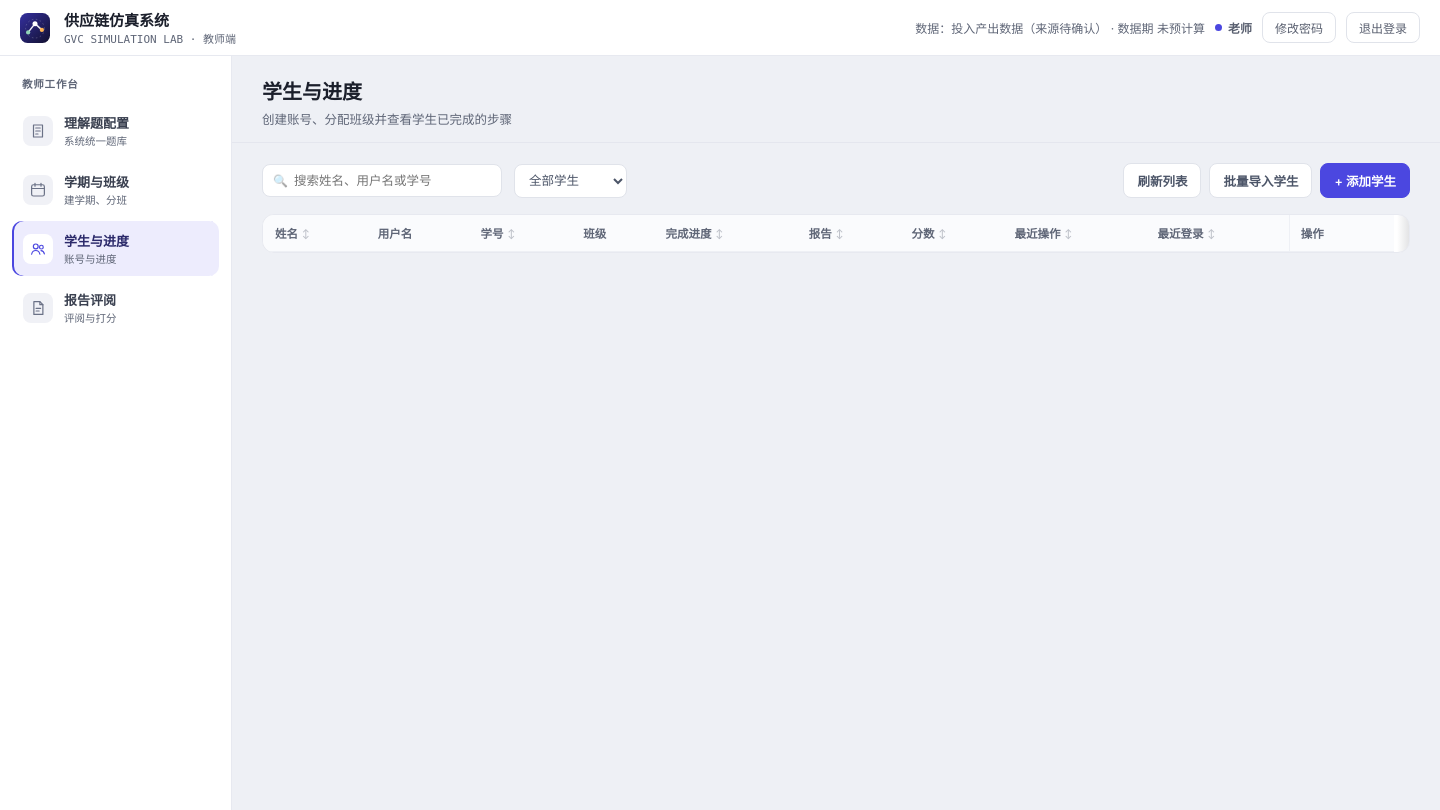
teacher review flow › the 待评阅 count follows the term filter; the sidebar badge stays the global count and says so
Click the button "报告评阅 评阅与打分" at (116, 308), box [12,280,219,335]
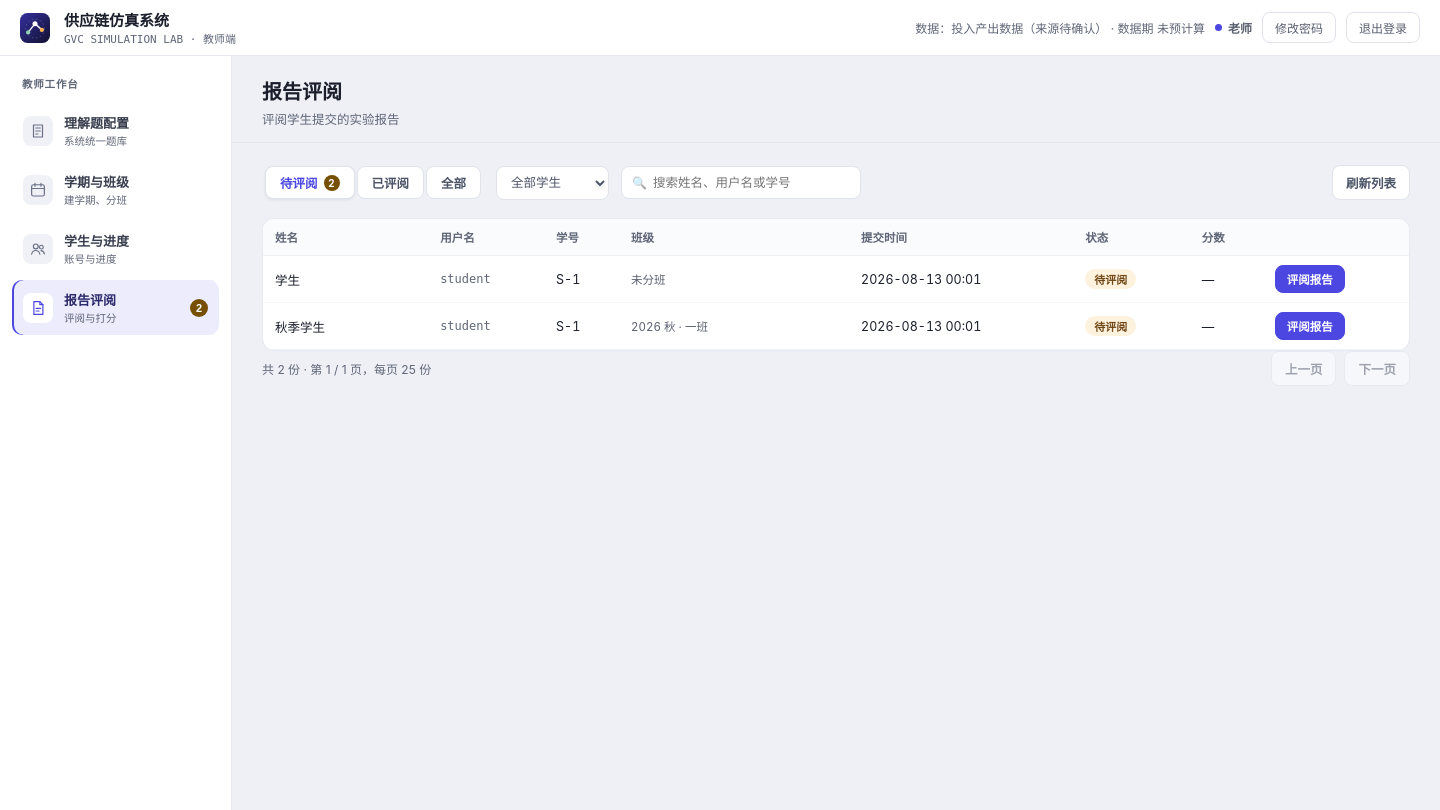
Now the button with aria-label "评阅报告：秋季学生" is shown, box [1275,312,1345,340]
Now the text with class "nav-badge" reads "2", box [196,302,202,314]
Select "2026 秋" in the dropdown named "筛选学期" at (552, 182), box [496,166,609,200]
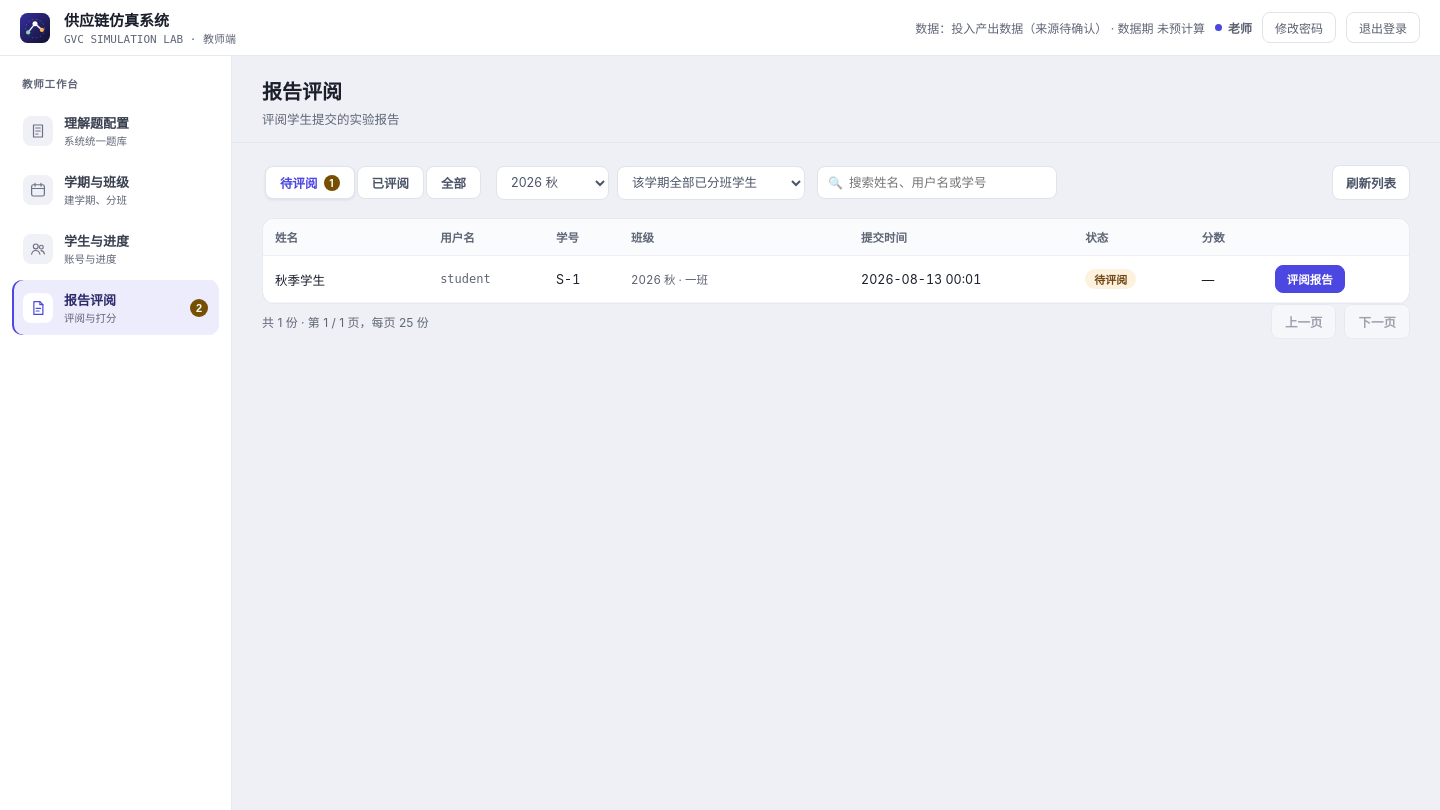
Select "2027 春" in the dropdown named "筛选学期" at (552, 182), box [496,166,609,200]
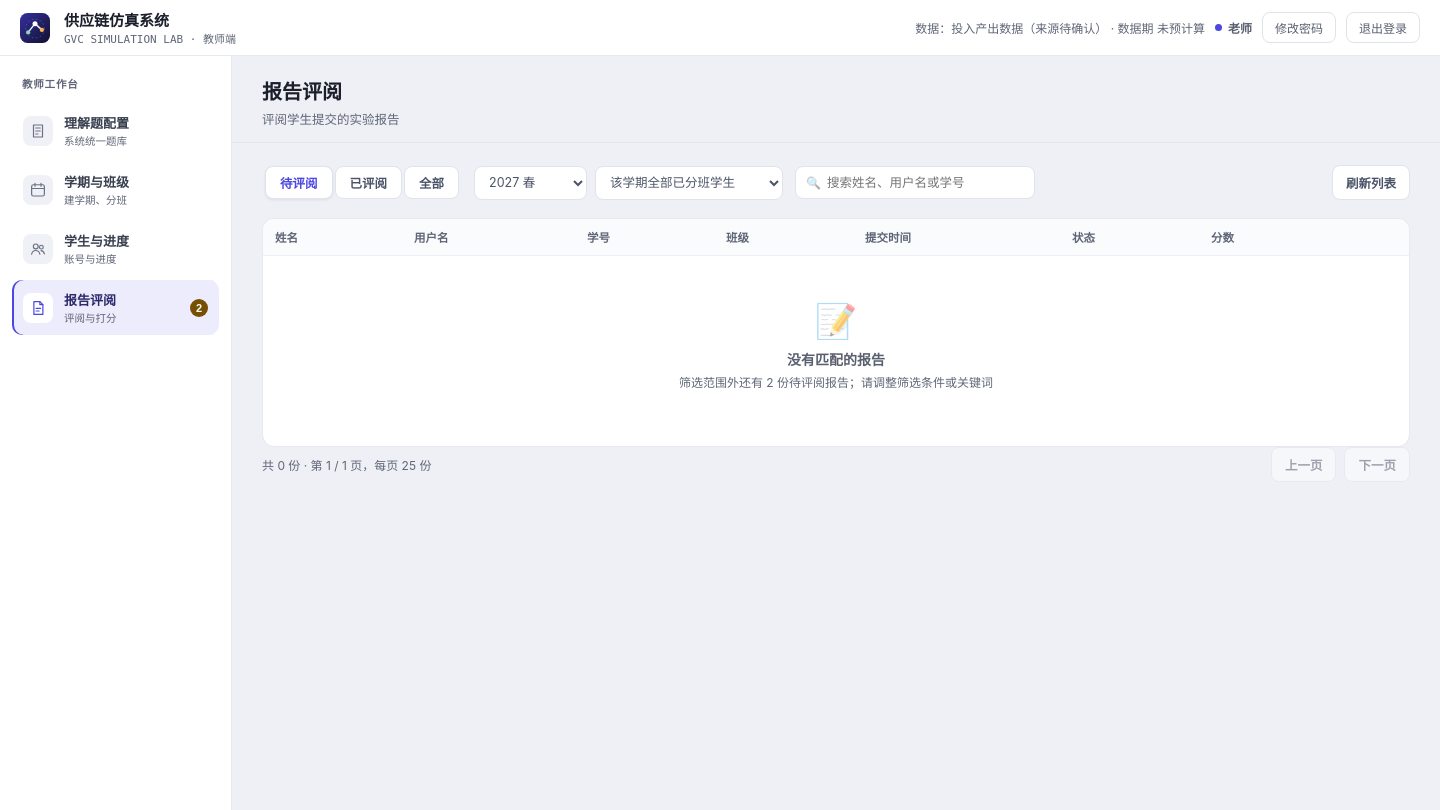
Now the text with class "seg-badge" is gone
Now the text "没有匹配的报告" is shown, box [787,351,885,368]
Now the text "筛选范围外还有 2 份待评阅报告；请调整筛选条件或关键词" is shown, box [679,375,993,390]
